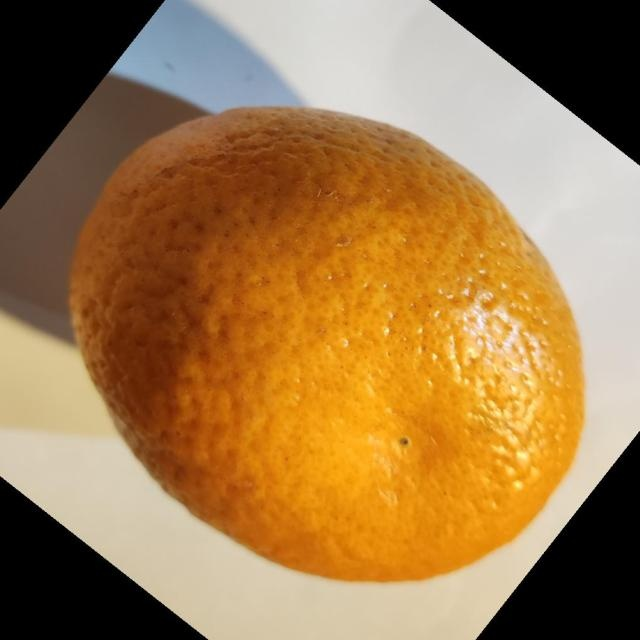agrume: (67, 104, 587, 584)
